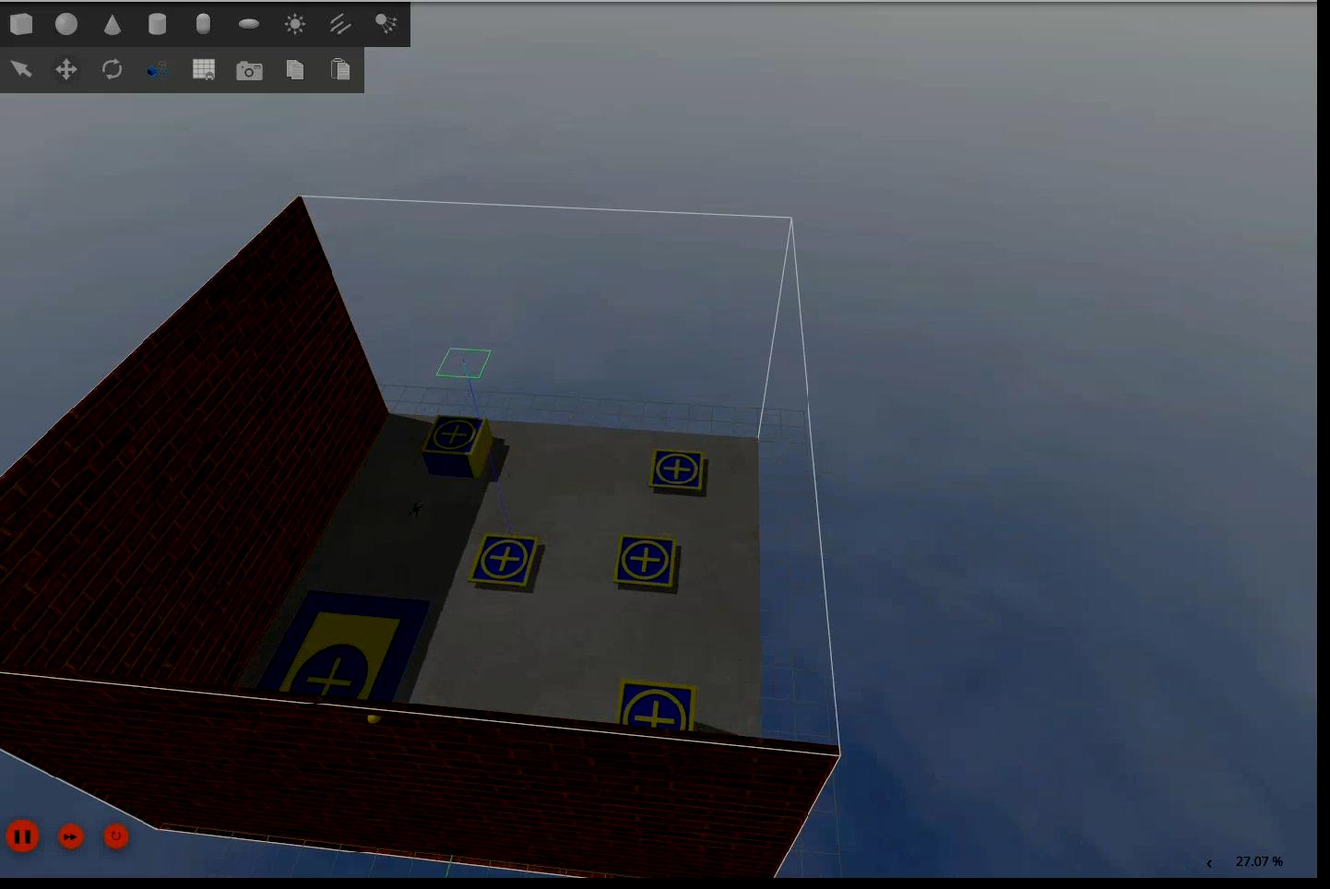large_base: (258, 590, 431, 703)
small_base: (615, 680, 698, 735), (612, 534, 680, 590), (469, 534, 540, 587), (423, 415, 488, 458), (649, 446, 707, 493)
